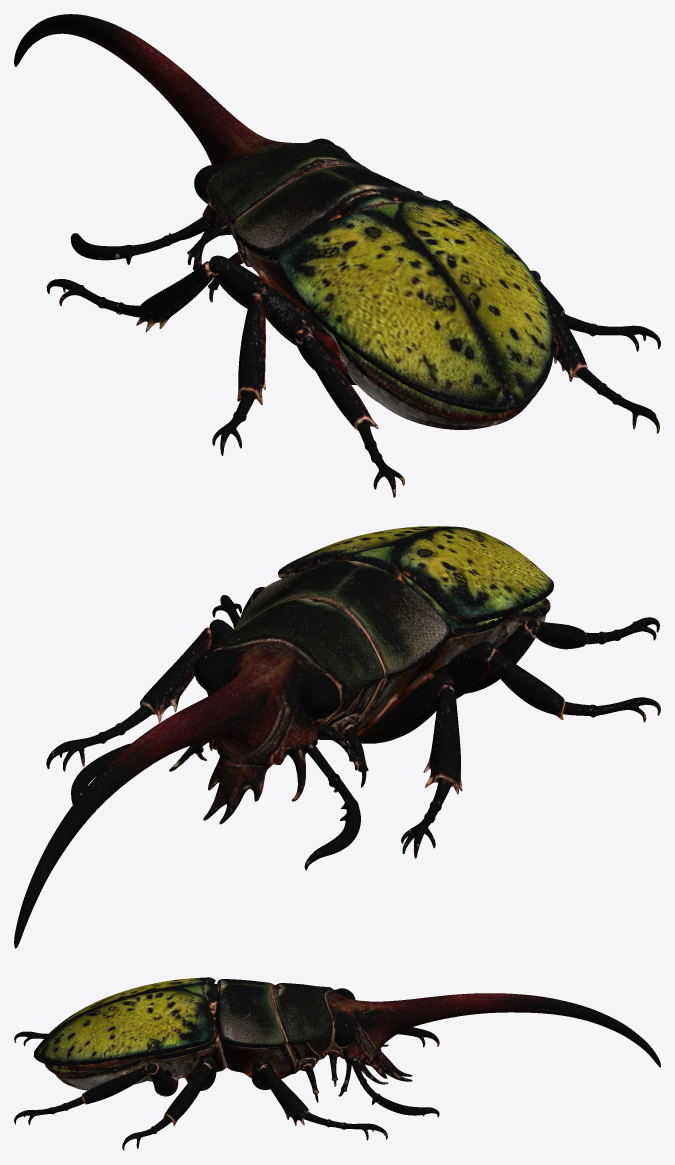
Rendered from hercules.glb.
3 views of the same model, one above another, from view 1: azimuth 30°, elevation 25°; view 2: azimuth 150°, elevation 25°; view 3: azimuth 270°, elevation 25° (orthographic). The views are drawn at different scales.
Parts seen in each view (by area): view 1: hercules; view 2: hercules; view 3: hercules.
Boxes of the visible parts, left/top/right/bottom form: hercules: left=14, top=14, right=660, bottom=497; hercules: left=14, top=526, right=660, bottom=948; hercules: left=14, top=977, right=660, bottom=1150.
Size of the model in its own units: 0.4963 by 0.1703 by 1.
Materials: 1 (1 with a texture image).
